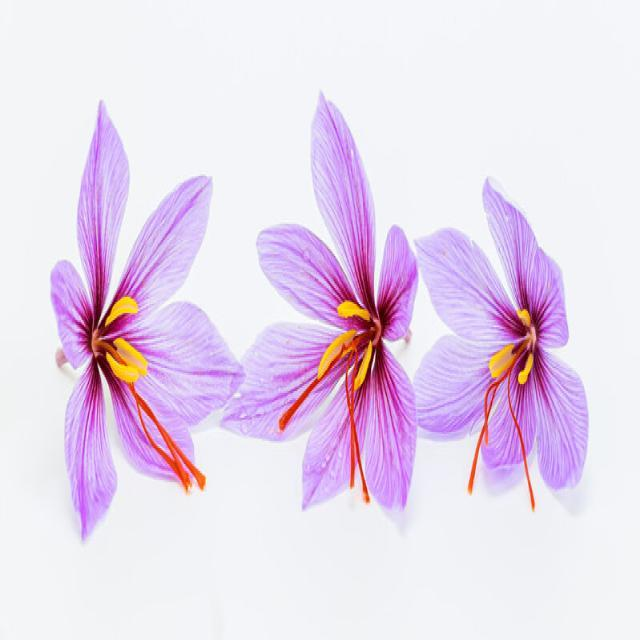Flower: (261, 163, 421, 497), (438, 181, 592, 499), (58, 158, 195, 510)
stigma: (130, 385, 207, 496), (332, 358, 383, 504), (461, 366, 514, 503), (514, 350, 538, 526), (269, 359, 325, 434)
